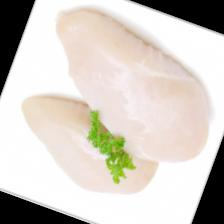chicken: (19, 0, 224, 178), (0, 81, 168, 210)
